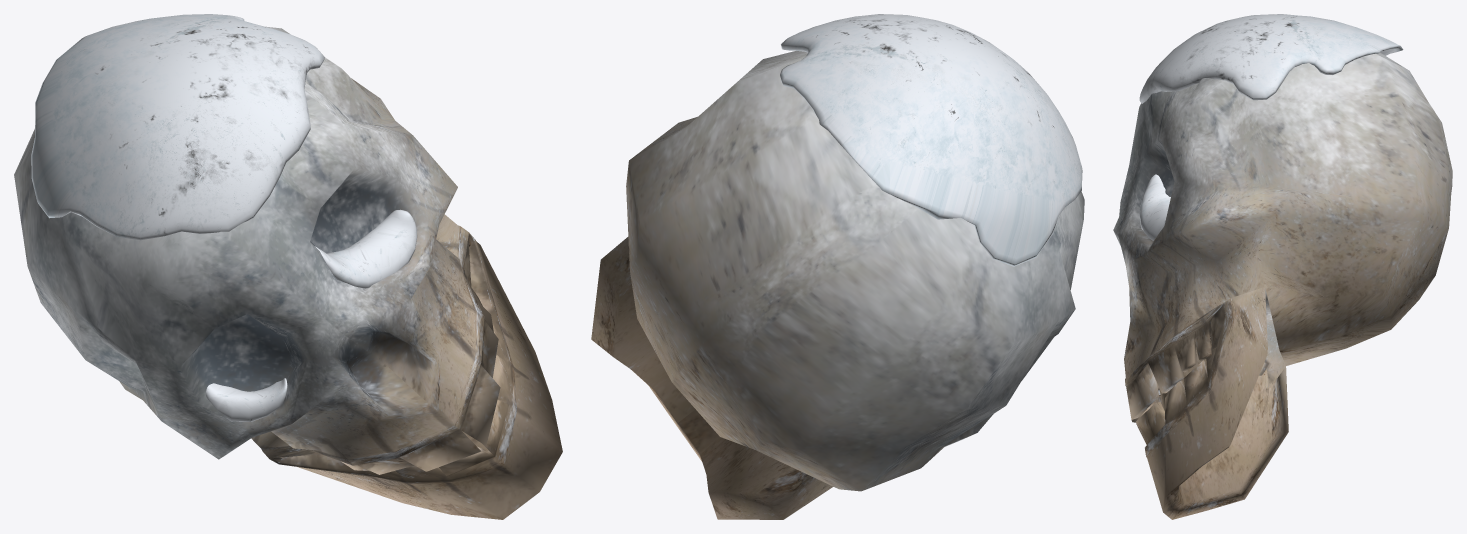
The model's file is snowskull.fbx.
3 views of the same model, side by side, from view 1: azimuth 30°, elevation 25°; view 2: azimuth 150°, elevation 25°; view 3: azimuth 270°, elevation 25° (orthographic). The views are drawn at different scales.
Parts seen in each view (by area): view 1: JotunSkullNormal001, snowskull; view 2: JotunSkullNormal001, snowskull; view 3: JotunSkullNormal001, snowskull.
Part boxes in pixels (bbox=[...]): JotunSkullNormal001: bbox=[14, 26, 562, 519]; snowskull: bbox=[31, 14, 417, 421]; JotunSkullNormal001: bbox=[591, 51, 1084, 519]; snowskull: bbox=[780, 14, 1082, 266]; JotunSkullNormal001: bbox=[1113, 52, 1452, 519]; snowskull: bbox=[1139, 14, 1403, 240].
Bounding box in the file's own units: 27.89 × 29.63 × 22.52.
